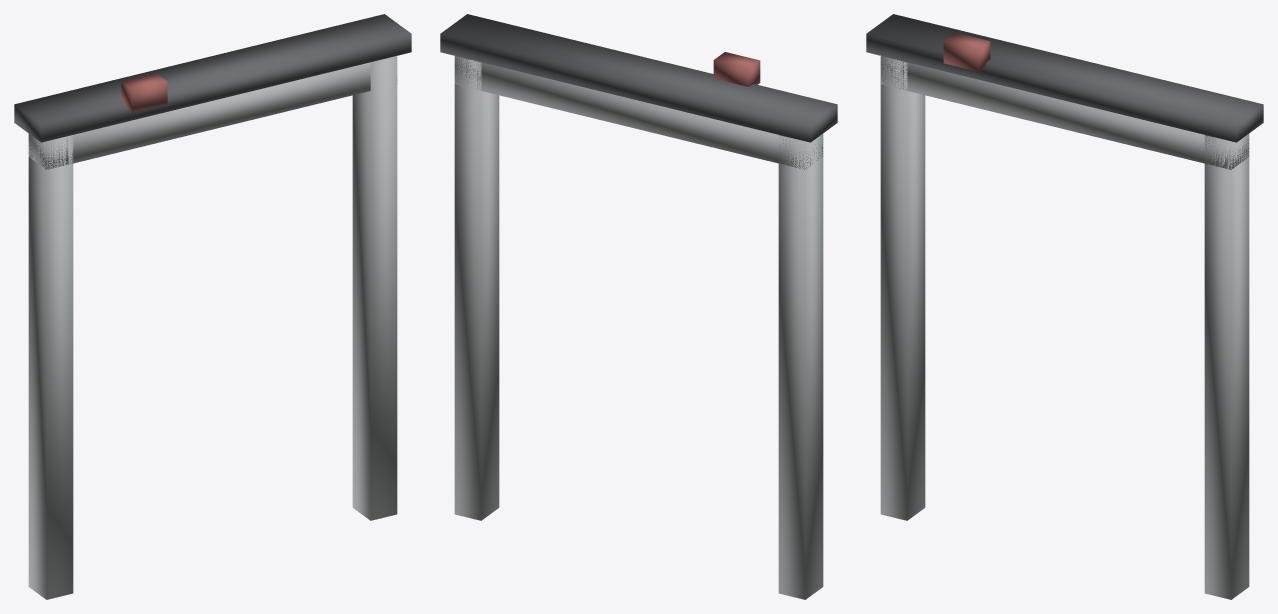
File: doorway_fire_rated_w152_h210_d16.glb
The picture shows the model from 3 angles, left to right: view 1: azimuth 30°, elevation 25°; view 2: azimuth 150°, elevation 25°; view 3: azimuth 330°, elevation 25°; orthographic projection.
Parts seen in each view (by area): view 1: world; view 2: world; view 3: world.
Part boxes in pixels (bbox=[...]): world: bbox=[14, 14, 411, 599]; world: bbox=[440, 14, 837, 599]; world: bbox=[866, 14, 1263, 599].
Size of the model in its own units: 1.89 by 2.44 by 0.3.
